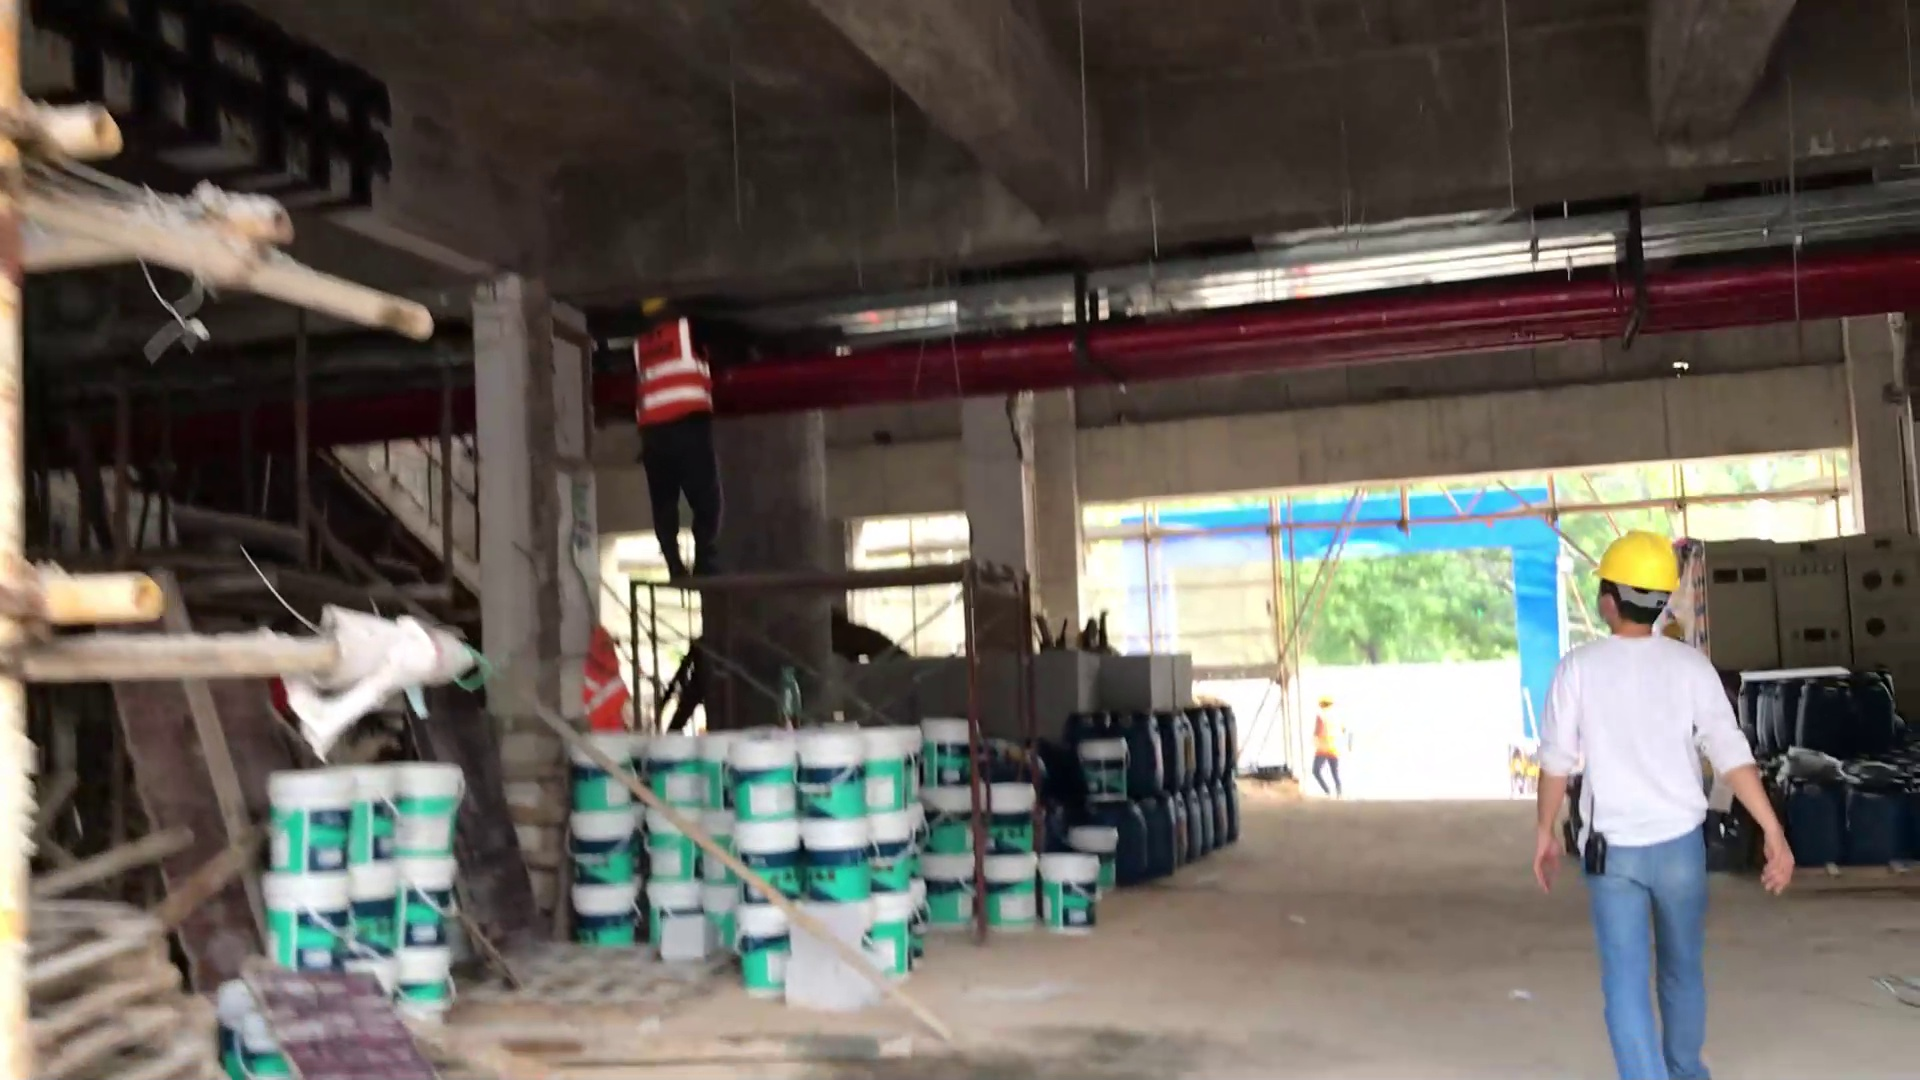helmet: (1585, 528, 1696, 595)
person: (1517, 520, 1799, 1080), (604, 291, 758, 601), (1304, 686, 1363, 800)
vest: (627, 315, 717, 430)
